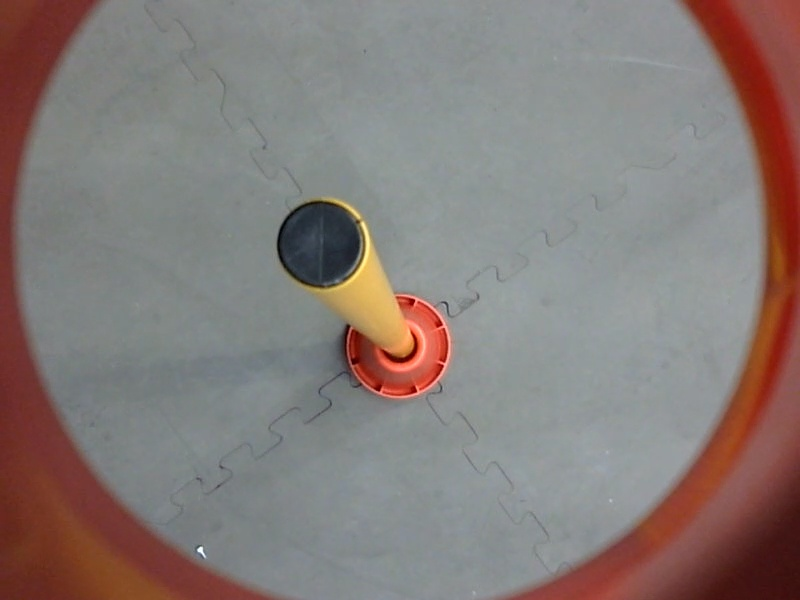tip: (270, 190, 372, 298)
